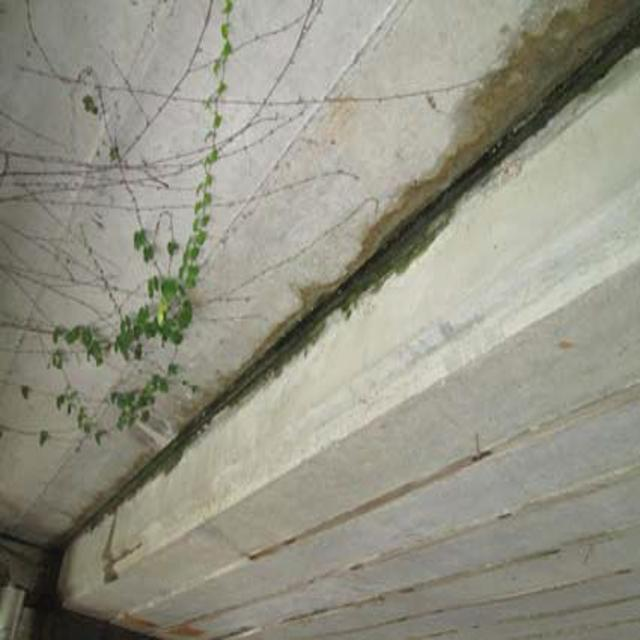leakage: (237, 10, 633, 320)
